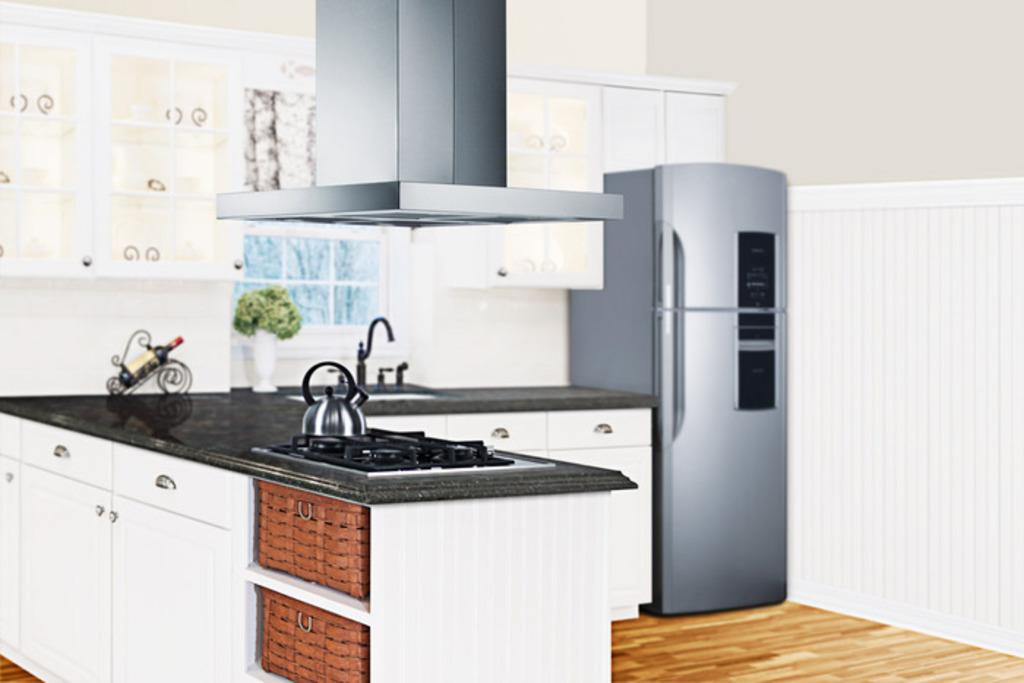cabinet_door: (101, 44, 219, 270), (0, 29, 89, 266), (116, 516, 220, 683), (26, 474, 110, 668), (258, 493, 358, 568), (262, 613, 364, 681), (602, 90, 660, 167), (26, 427, 110, 472), (666, 95, 722, 162), (132, 461, 222, 501)
handle: (650, 220, 682, 306), (665, 322, 680, 441), (296, 608, 317, 631), (146, 479, 180, 493), (490, 425, 510, 442), (52, 443, 74, 458), (292, 500, 314, 515), (594, 422, 616, 436)
